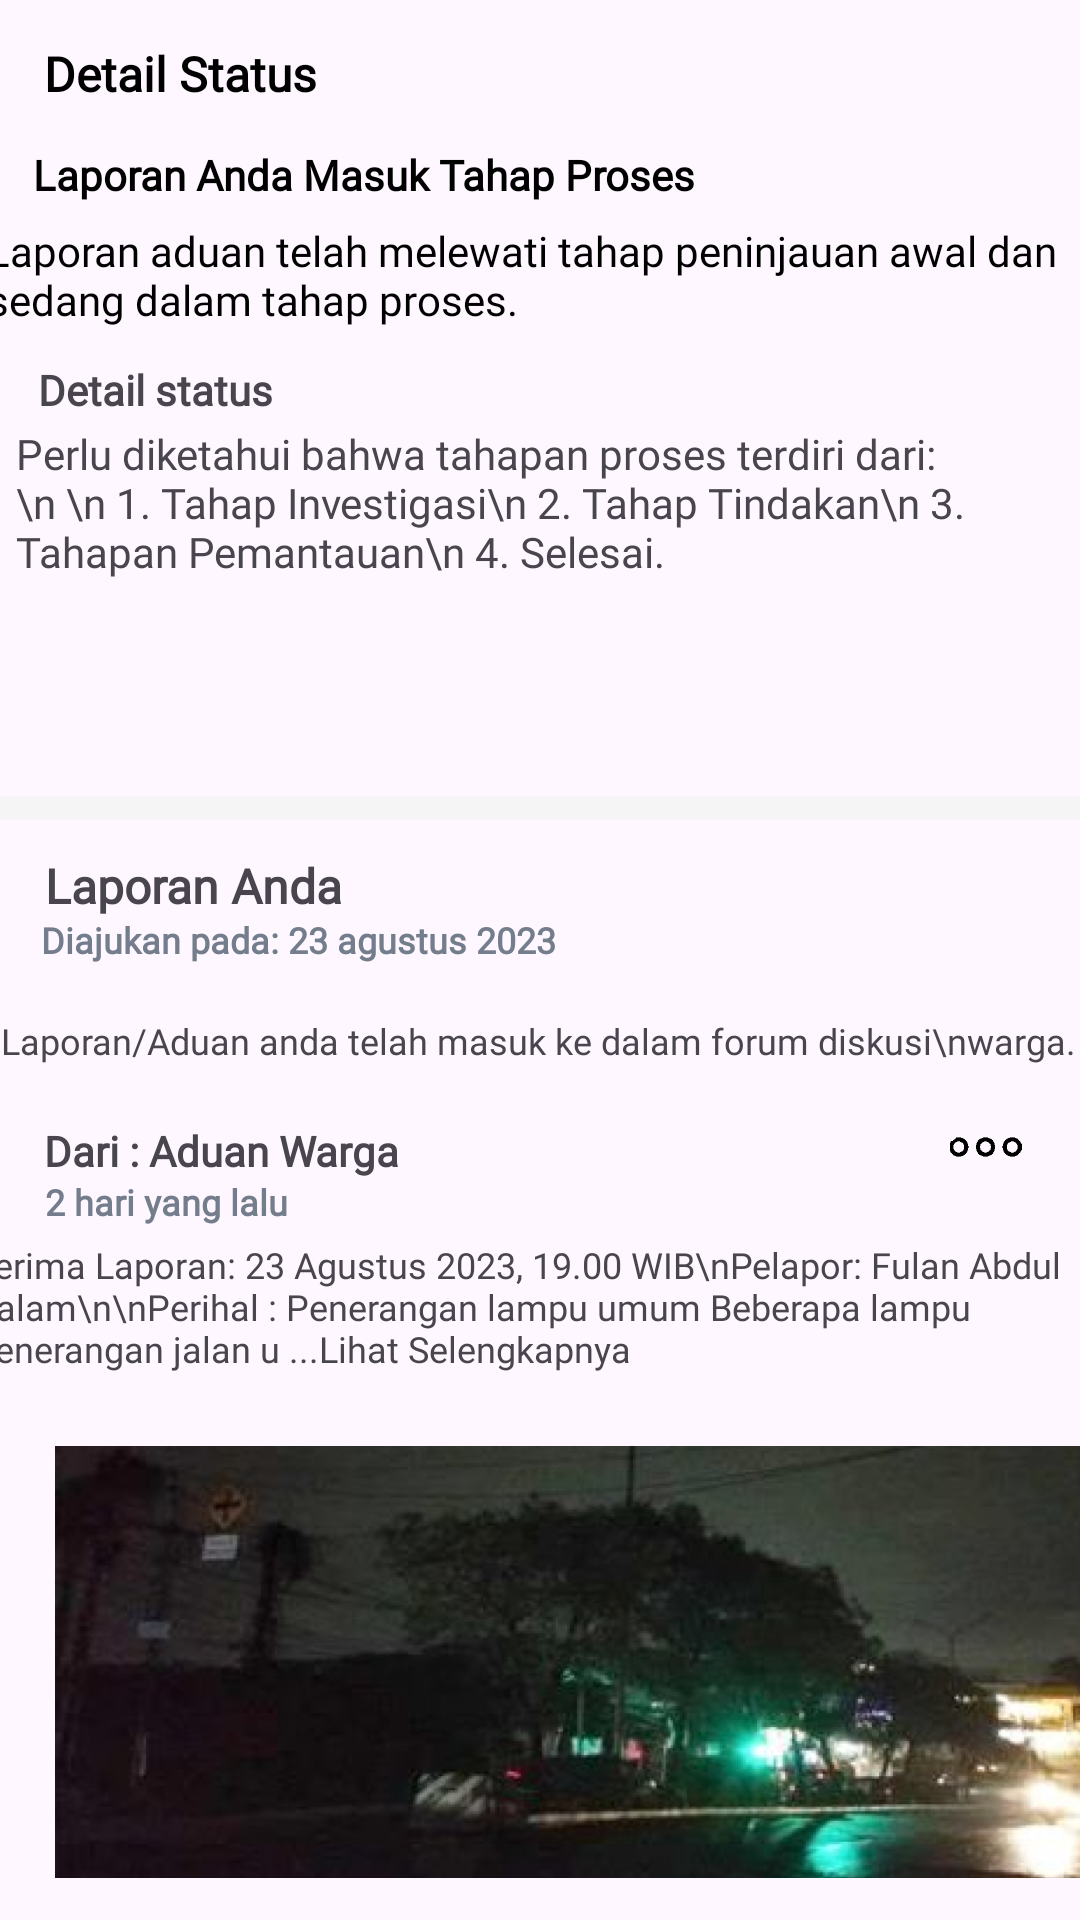

Point at icon controls on the screen. Image size 1080×1920, points as (x,y).
options: (986,1147)
